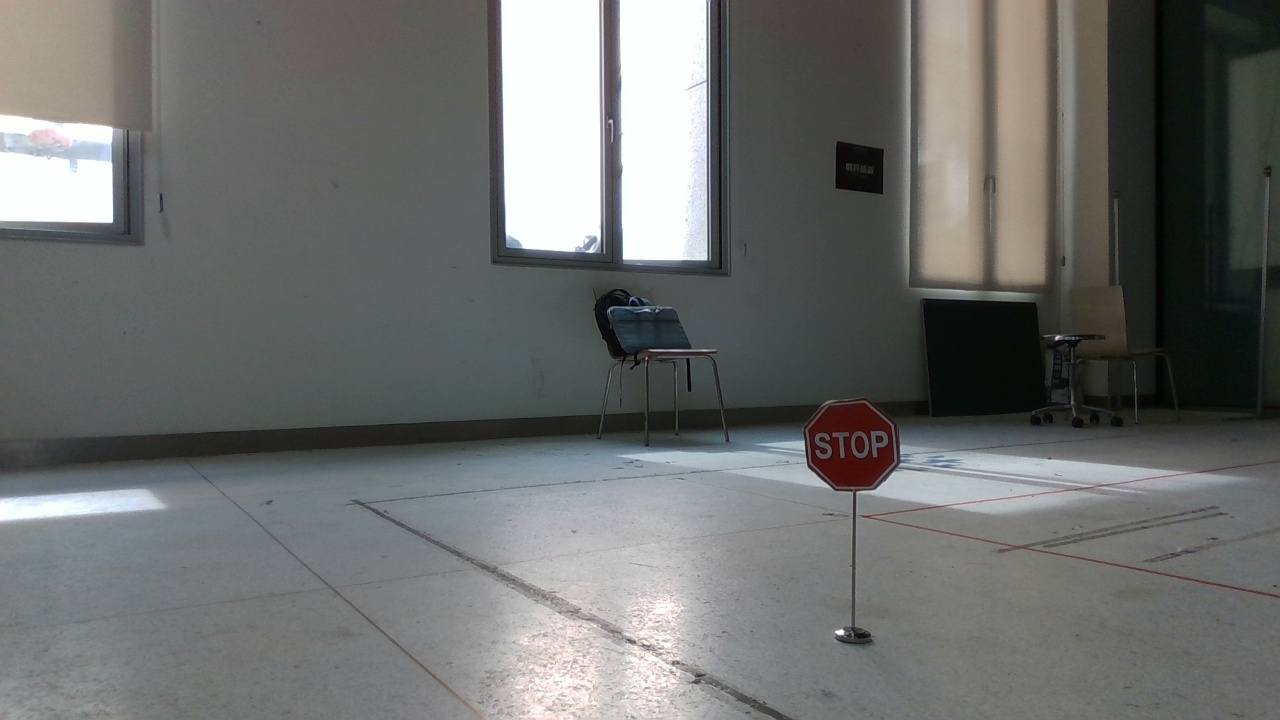stop_sign: (793, 388, 917, 678)
